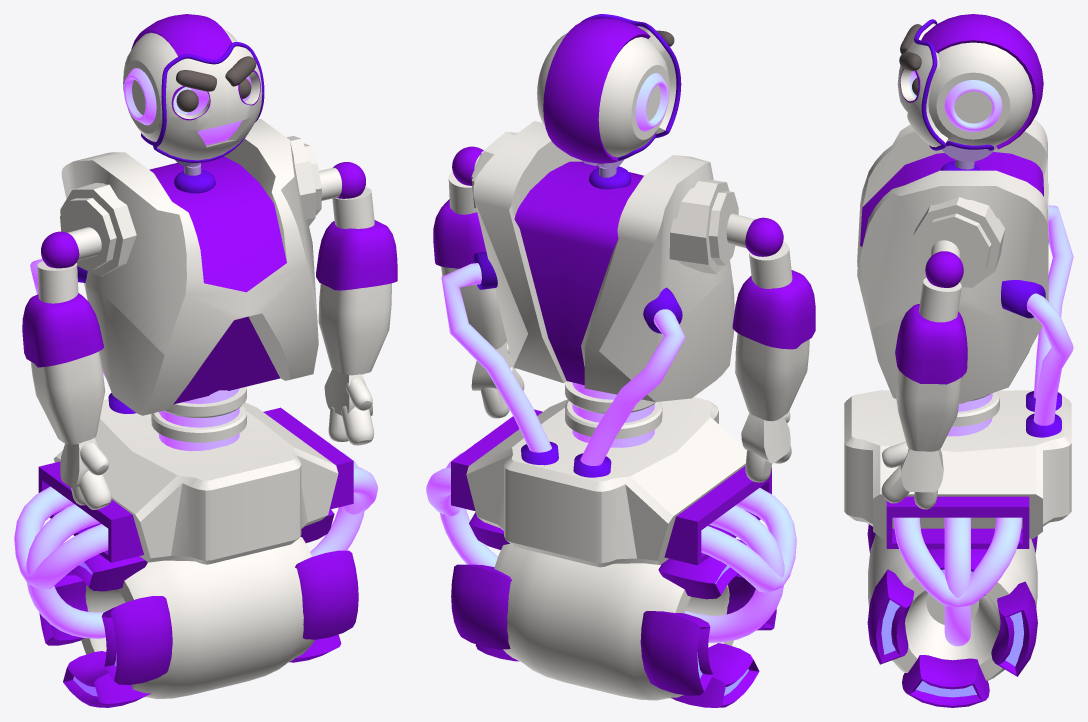
Rendered from EnemyPlasmaBoss.fbx.
3 renders of one model, left to right at view 1: azimuth 30°, elevation 25°; view 2: azimuth 150°, elevation 25°; view 3: azimuth 270°, elevation 25°, orthographic. The views are drawn at different scales.
Parts seen in each view (by area): view 1: Cube.005, Cube.002, Wheel, Wheel.003_Curve, Cube.007, Plane, Cube.008, Mask, Cylinder, Cube.006, MainHead, Cylinder.009 (+14 smaller); view 2: Cube.005, Cube.002, Wheel, Wheel.003_Curve, Plane, Cube.007, Plane.001, HeadTop, Cube.008, MainHead, Cube.006, Cylinder (+13 smaller); view 3: Cube.005, Cube.002, Wheel.003_Curve, Wheel, Plane, MainHead, Cube.007, Plane.001, Cylinder, Cube.008, Cube.006, HeadTop (+14 smaller).
Boxes of the visible parts, x1,y1,x2,y2 form: Cube.005: [61, 119, 318, 415]; Cube.002: [54, 399, 338, 564]; Wheel: [81, 537, 314, 699]; Wheel.003_Curve: [39, 509, 358, 707]; Cube.007: [31, 283, 391, 488]; Plane: [14, 442, 377, 638]; Cube.008: [22, 220, 397, 367]; Mask: [157, 46, 262, 160]; Cylinder: [60, 136, 321, 276]; Cube.006: [38, 407, 353, 562]; MainHead: [123, 28, 251, 145]; Cylinder.009: [37, 187, 374, 303]; Cube.005: [473, 121, 734, 401]; Cube.002: [466, 397, 746, 567]; Wheel: [494, 543, 733, 700]; Wheel.003_Curve: [451, 512, 776, 707]; Plane: [426, 443, 796, 642]; Cube.007: [441, 266, 809, 463]; Plane.001: [441, 263, 685, 465]; HeadTop: [543, 18, 650, 163]; Cube.008: [433, 199, 815, 349]; MainHead: [537, 32, 669, 157]; Cube.006: [451, 409, 771, 565]; Cylinder: [471, 132, 738, 274]; Cube.005: [857, 119, 1048, 403]; Cube.002: [844, 390, 1071, 538]; Wheel.003_Curve: [867, 524, 1037, 707]; Wheel: [868, 534, 1037, 680]; Plane: [893, 517, 1022, 646]; MainHead: [909, 42, 1032, 146]; Cube.007: [896, 369, 961, 492]; Plane.001: [1026, 205, 1073, 425]; Cylinder: [913, 197, 1004, 287]; Cube.008: [895, 304, 967, 384]; Cube.006: [886, 496, 1029, 548]; HeadTop: [921, 14, 1043, 149].
Size of the model in its own units: 27.37 by 47.72 by 15.45.
